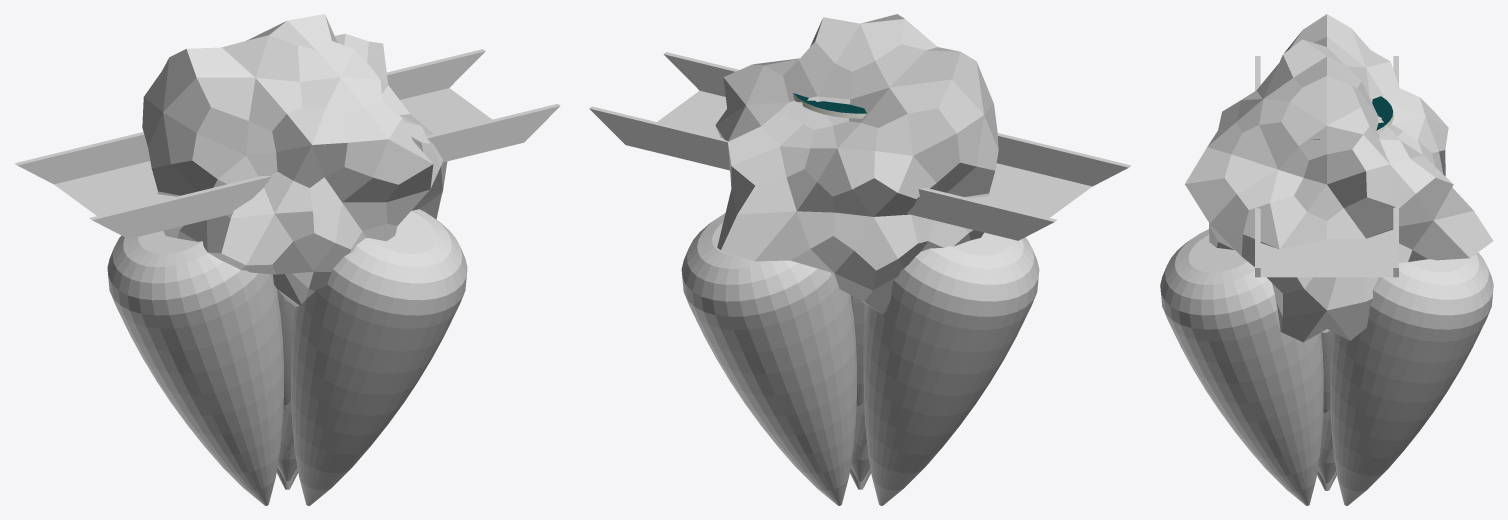
File: Buildings_BoolBuilding_3.fbx
3 views of the same model, side by side, from view 1: azimuth 30°, elevation 25°; view 2: azimuth 150°, elevation 25°; view 3: azimuth 270°, elevation 25° (orthographic). The views are drawn at different scales.
Visible parts, largest first — view 1: TreeBunch.001, Cylinder.004, Cylinder.002, roadConnector.001, Building_3.002, Building_3.001; view 2: TreeBunch.001, Cylinder.002, Cylinder.003, roadConnector.001, Cylinder.005, Buidling_4.002, Building_3.001; view 3: TreeBunch.001, Cylinder.004, Cylinder.003, roadConnector.001, Building_3.001, Building_3.002, Buidling_4.002.
Boxes of the visible parts, x1,y1,x2,y2 form: TreeBunch.001: (142, 14, 447, 306); Cylinder.004: (291, 209, 467, 505); Cylinder.002: (107, 231, 283, 505); roadConnector.001: (14, 49, 560, 238); Building_3.002: (277, 289, 295, 481); Building_3.001: (277, 412, 297, 481); TreeBunch.001: (715, 14, 998, 314); Cylinder.002: (864, 232, 1039, 505); Cylinder.003: (681, 213, 856, 505); roadConnector.001: (589, 52, 1131, 240); Cylinder.005: (850, 295, 868, 406); Buidling_4.002: (793, 93, 866, 118); Building_3.001: (850, 413, 870, 481); TreeBunch.001: (1185, 14, 1493, 342); Cylinder.004: (1160, 229, 1323, 505); Cylinder.003: (1330, 252, 1493, 505); roadConnector.001: (1255, 56, 1398, 277); Building_3.001: (1318, 419, 1335, 483); Building_3.002: (1321, 331, 1332, 421); Buidling_4.002: (1309, 96, 1393, 141).
Bounding box in the file's own units: 754 × 742 × 502.
